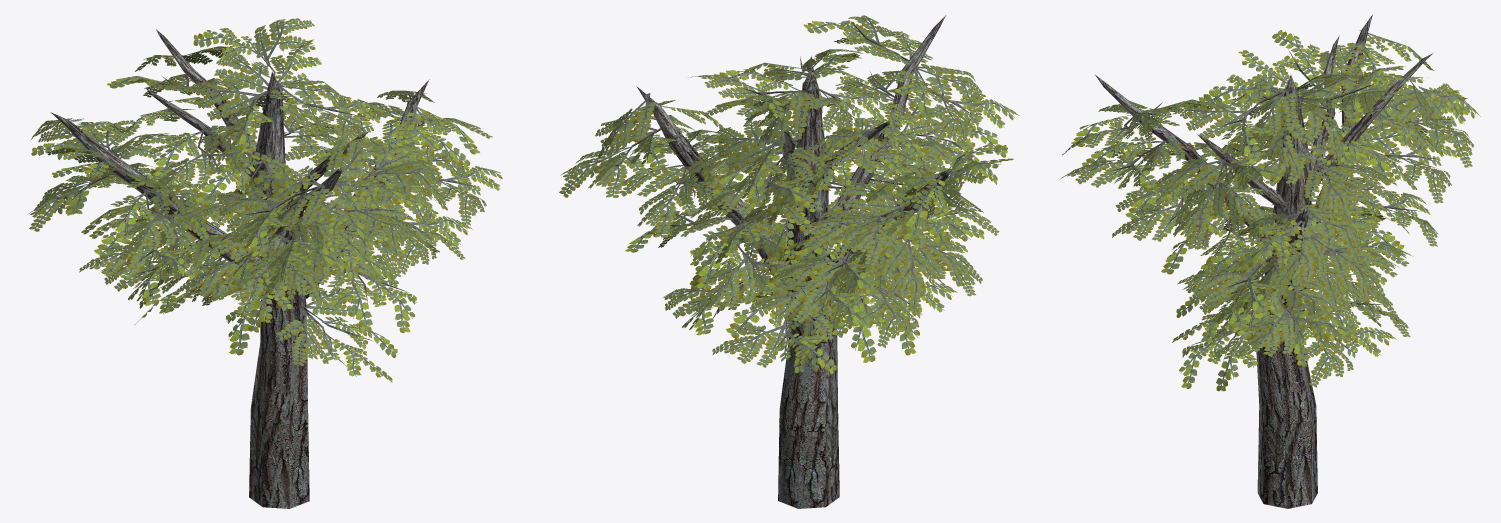
The model's file is Tree_02_02.obj.
The picture shows the model from 3 angles, left to right: view 1: azimuth 30°, elevation 25°; view 2: azimuth 150°, elevation 25°; view 3: azimuth 270°, elevation 25°; orthographic projection. The views are drawn at different scales.
Visible parts, largest first — view 1: polySurface991; view 2: polySurface991; view 3: polySurface991.
Boxes of the visible parts, x1=… form: polySurface991: x1=28, y1=18, x2=502, y2=508; polySurface991: x1=559, y1=15, x2=1019, y2=508; polySurface991: x1=1061, y1=14, x2=1480, y2=508.
Bounding box in the file's own units: 169 × 162 × 149.
1 material, 1 textured.
